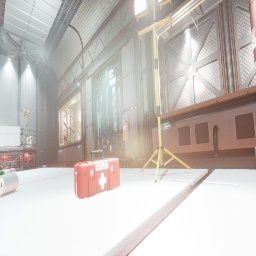0: (0, 173, 19, 196), (0, 168, 16, 176)
EmergencyPhone ,: (86, 138, 88, 147)
FirstAidBox ,: (74, 150, 120, 199), (6, 164, 14, 170)
NitrogenTank ,: (248, 0, 256, 79)
SafetySwitchPanel ,: (122, 114, 130, 141)
